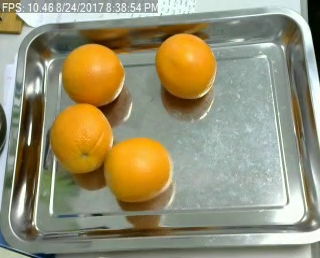Orange: (103, 137, 172, 202), (50, 104, 114, 172), (61, 43, 124, 106), (155, 34, 216, 98)
